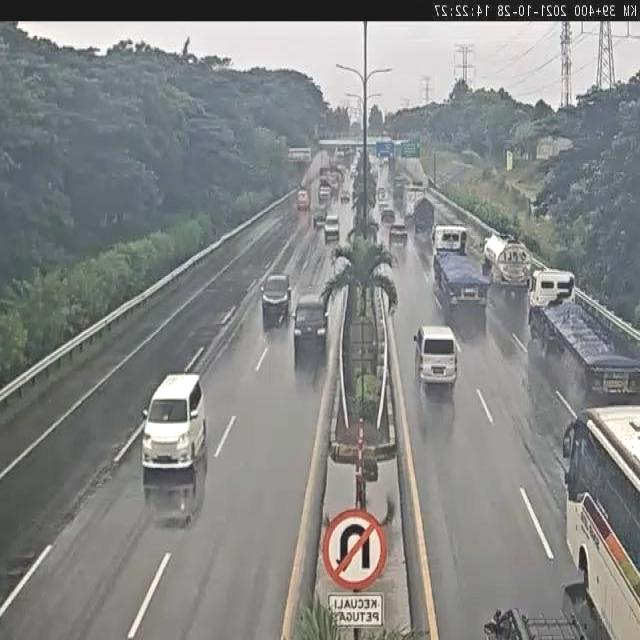Bus: (559, 401, 640, 640)
Car: (140, 373, 208, 467), (482, 605, 589, 640), (260, 274, 291, 314), (323, 214, 342, 242), (388, 222, 407, 246), (312, 205, 328, 225), (381, 208, 396, 223), (340, 189, 351, 204)
Truck: (525, 266, 640, 394), (430, 221, 490, 310), (481, 230, 533, 292), (412, 196, 436, 236), (401, 183, 425, 220), (296, 188, 312, 210), (318, 180, 332, 203), (393, 176, 407, 198)
Van: (412, 324, 461, 390), (292, 294, 330, 352)
